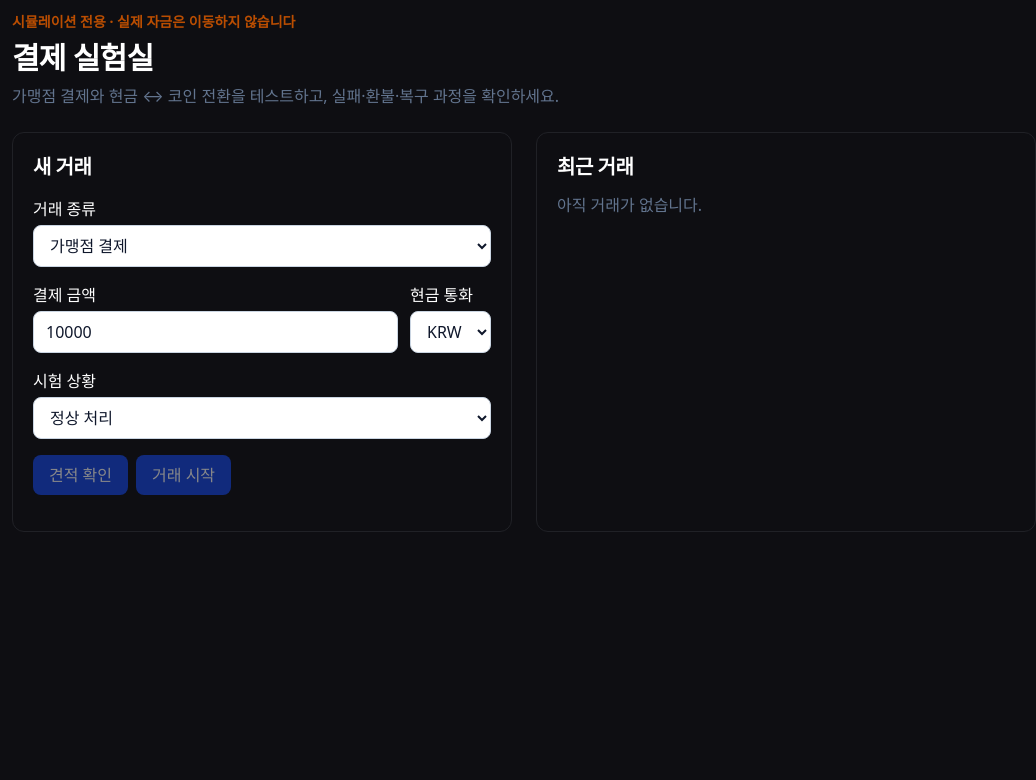
payment lab › requires a quote and exposes simulated identity approval for offramps
Expected: the button "거래 시작" is disabled, [136,455,231,495]
Select "코인 판매 (오프램프)" in the dropdown labelled "거래 종류" at (262, 246), box [33,225,491,267]
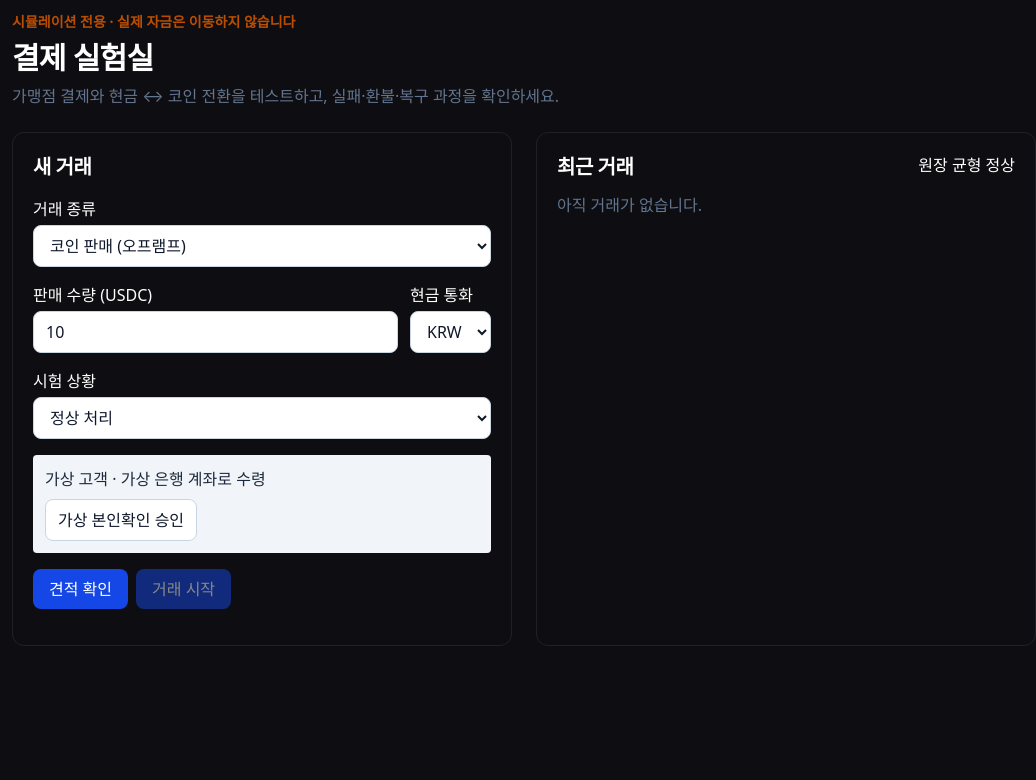
Expected: the text "가상 고객 · 가상 은행 계좌로 수령" is shown, [45,468,266,490]
Expected: the button "가상 본인확인 승인" is shown, [45,499,197,541]
Expected: the button "견적 확인" is enabled, [33,569,128,609]
